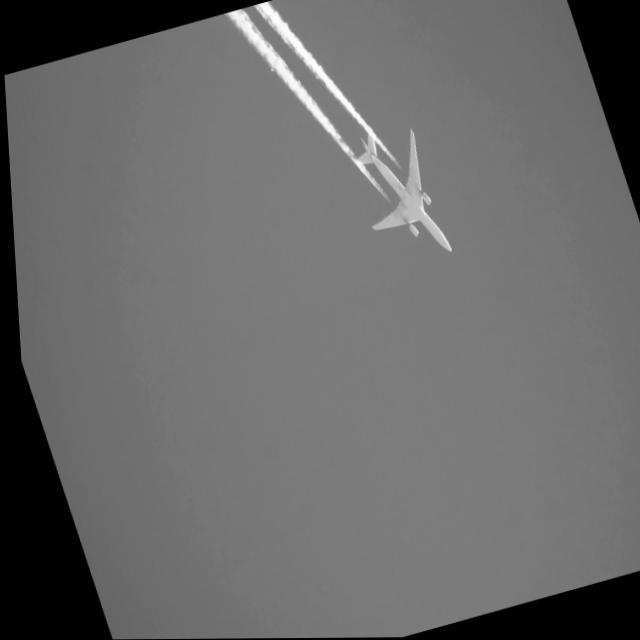aeroplane: (334, 110, 461, 282)
